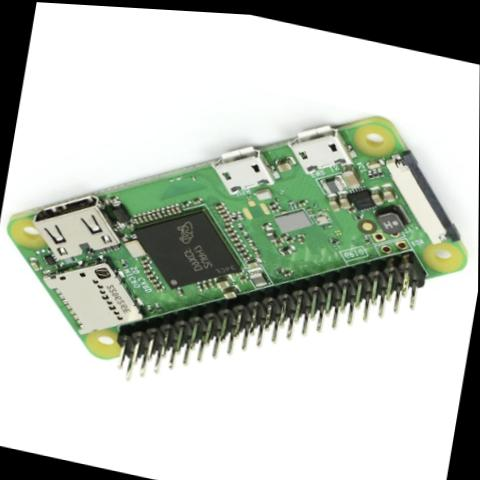Raspberry-Pi-Zero-WH: (0, 36, 480, 444)
